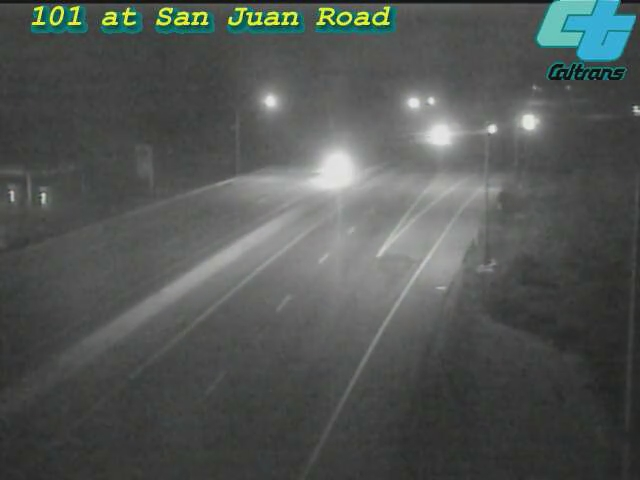vehicle: (298, 127, 378, 207), (417, 110, 467, 160), (468, 103, 518, 153), (502, 98, 552, 148), (612, 85, 640, 135)
